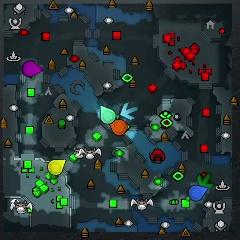p1: (188, 185, 207, 201)
p2: (100, 105, 116, 124)
p3: (22, 60, 42, 77)
p4: (48, 159, 66, 175)
p5: (110, 120, 127, 135)
x3: (121, 103, 138, 120)
x4: (197, 172, 212, 188)
